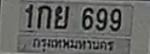1: (25, 4, 32, 26)
6: (81, 7, 93, 29)
9: (95, 7, 107, 30), (110, 7, 120, 31)
A01: (36, 4, 51, 28)
A34: (53, 5, 69, 28)
BKK: (30, 35, 116, 54)
